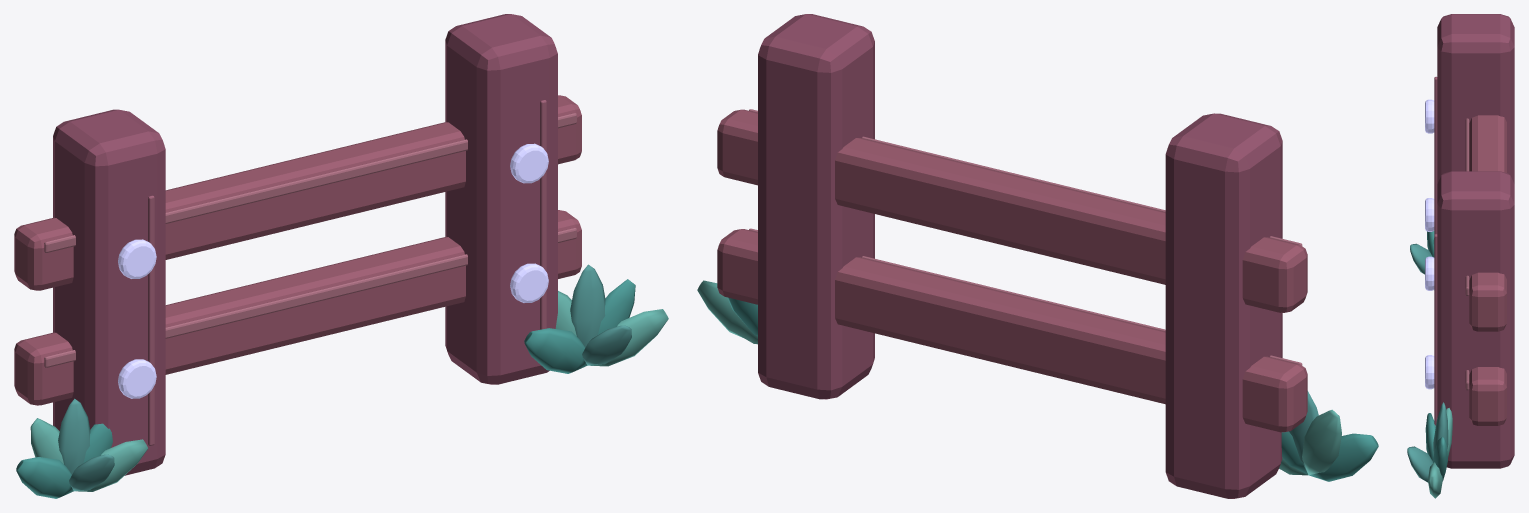
File: wood_fence_REMADE.glb
3 renders of one model, left to right at view 1: azimuth 30°, elevation 25°; view 2: azimuth 150°, elevation 25°; view 3: azimuth 270°, elevation 25°, orthographic. The views are drawn at different scales.
Parts seen in each view (by area): view 1: wood_fence_REMADE_visual; view 2: wood_fence_REMADE_visual; view 3: wood_fence_REMADE_visual.
Part boxes in pixels (<box>): wood_fence_REMADE_visual: <box>14,14,668,498</box>; wood_fence_REMADE_visual: <box>697,14,1378,498</box>; wood_fence_REMADE_visual: <box>1407,14,1514,498</box>.
Bounding box in the file's own units: 2.8 × 1.38 × 0.485.
